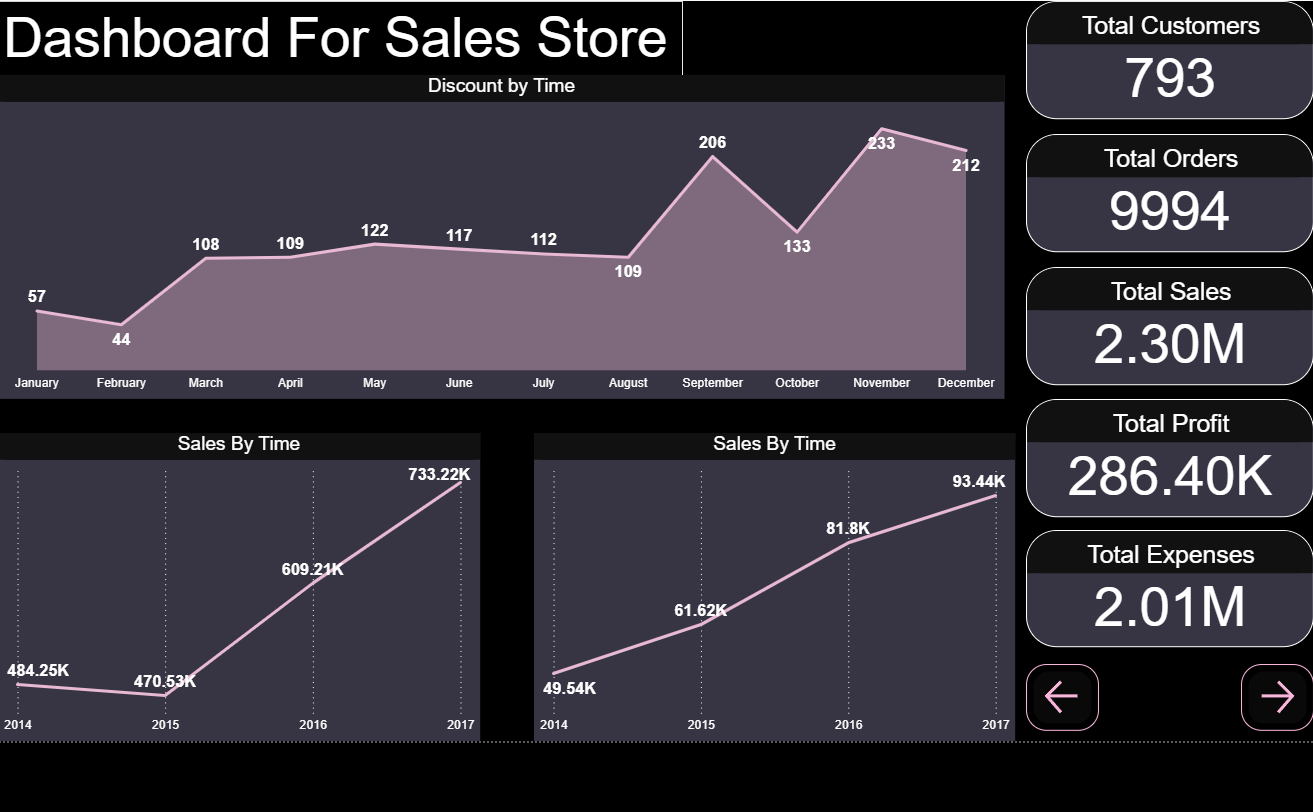

This screenshot's page, from the dashboard's own definition file:
{"tool":"powerbi","page":{"name":"time","canvas":[1280,720],"ordinal":1},"visuals":[{"type":"card","title":"Total Customers","fields":{"Values":["Count(Dim_Customer.Customer ID)"]},"box":[999.9,0,280.1,114.8],"z":0},{"type":"textbox","box":[0,0,666.7,81.7],"z":1},{"type":"card","title":"Total Orders","fields":{"Values":["CountNonNull(Facts.Order ID)"]},"box":[999.9,129.4,280.1,114.8],"z":2},{"type":"card","title":"Total Sales","fields":{"Values":["Sum(Facts.Sales)"]},"box":[999.9,258.7,280.1,114.8],"z":3},{"type":"card","title":"Total Profit","fields":{"Values":["Sum(Facts.Profit)"]},"box":[999.9,387.1,280.1,114.8],"z":4},{"type":"lineChart","title":"Sales By Time","fields":{"Y":["Sum(Facts.Sales)"],"Category":["Dim_DATE.Year","Dim_DATE.Quarter","Dim_DATE.Month","Dim_DATE.Day"]},"box":[0,420.2,468.8,299.6],"z":5},{"type":"areaChart","title":"Discount by Time","fields":{"Category":["Dim_DATE.Order Date.Variation.Date Hierarchy.Year","Dim_DATE.Order Date.Variation.Date Hierarchy.Quarter","Dim_DATE.Order Date.Variation.Date Hierarchy.Month","Dim_DATE.Order Date.Variation.Date Hierarchy.Day"],"Y":["Sum(Facts.Discount)"]},"box":[0,72,979.5,315.1],"z":6},{"type":"actionButton","box":[1209,644.9,71,65.2],"z":9},{"type":"actionButton","box":[999.9,644.9,71,65.2],"z":10},{"type":"card","title":"Total Expenses","fields":{"Values":["Sum(Facts.expenses)"]},"box":[999.9,514.5,280.1,114],"z":11},{"type":"lineChart","title":"Sales By Time","fields":{"Category":["Dim_DATE.Year","Dim_DATE.Quarter","Dim_DATE.Month","Dim_DATE.Day"],"Y":["Sum(Facts.Profit)"]},"box":[521.3,420.2,468,299.6],"z":12}]}

Visuals, with their boxes on the page's 1280x720 design canvas (x1, y1, x2, y2). These are canvas units, not pixel positions in the 1313x812 screenshot, which may show the page scaled, cropped or inside an application window:
"Total Customers" card: x1=1000, y1=0, x2=1280, y2=115
textbox: x1=0, y1=0, x2=667, y2=82
"Total Orders" card: x1=1000, y1=129, x2=1280, y2=244
"Total Sales" card: x1=1000, y1=259, x2=1280, y2=374
"Total Profit" card: x1=1000, y1=387, x2=1280, y2=502
"Sales By Time" lineChart: x1=0, y1=420, x2=469, y2=720
"Discount by Time" areaChart: x1=0, y1=72, x2=980, y2=387
actionButton: x1=1209, y1=645, x2=1280, y2=710
actionButton: x1=1000, y1=645, x2=1071, y2=710
"Total Expenses" card: x1=1000, y1=514, x2=1280, y2=628
"Sales By Time" lineChart: x1=521, y1=420, x2=989, y2=720
